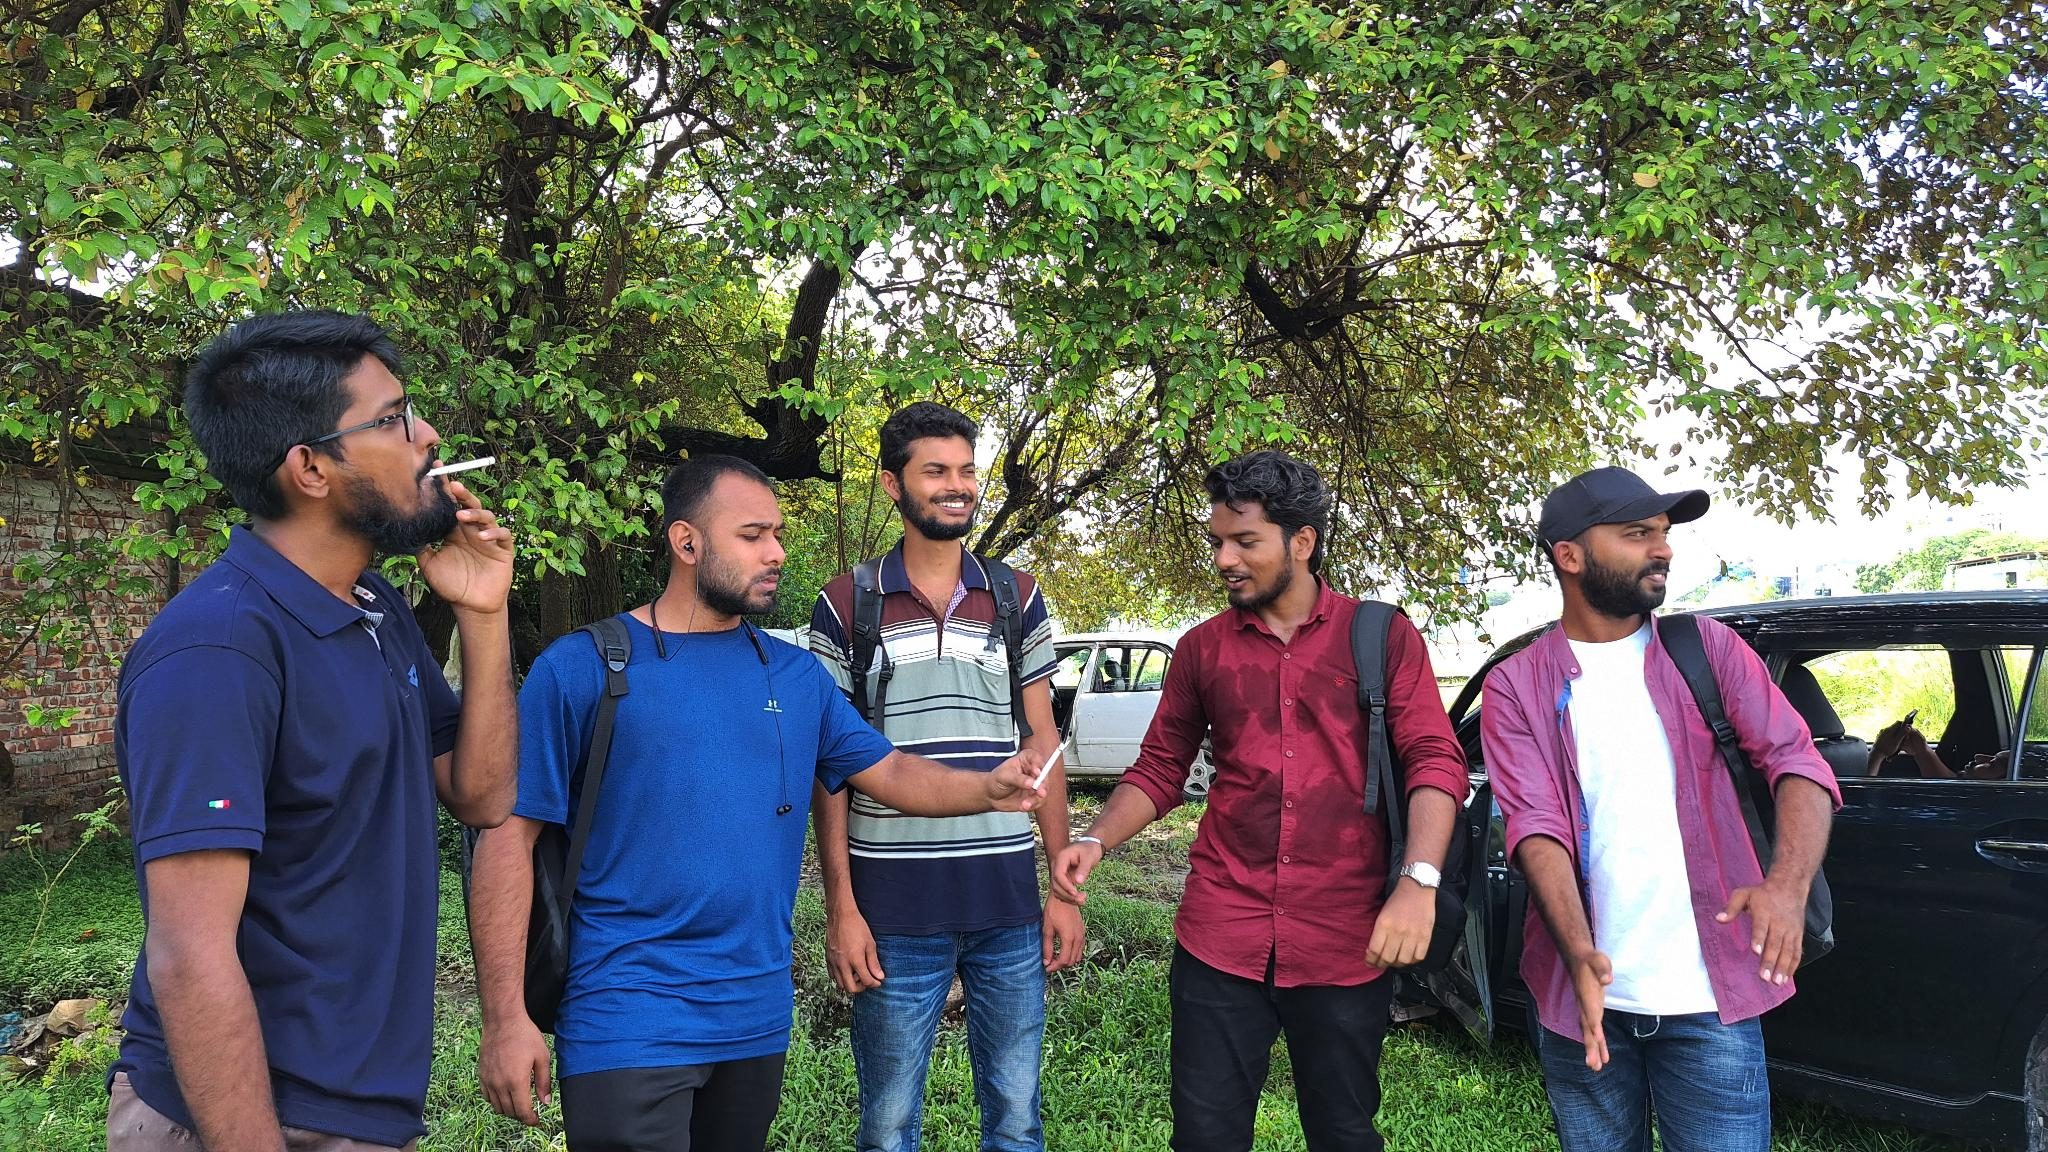cigarette: (1030, 741, 1068, 793), (422, 453, 498, 478)
nonSmoker: (1059, 456, 1467, 1152), (1481, 470, 1844, 1152), (809, 404, 1084, 1152)
smoker: (461, 452, 1051, 1152), (97, 319, 518, 1152)
